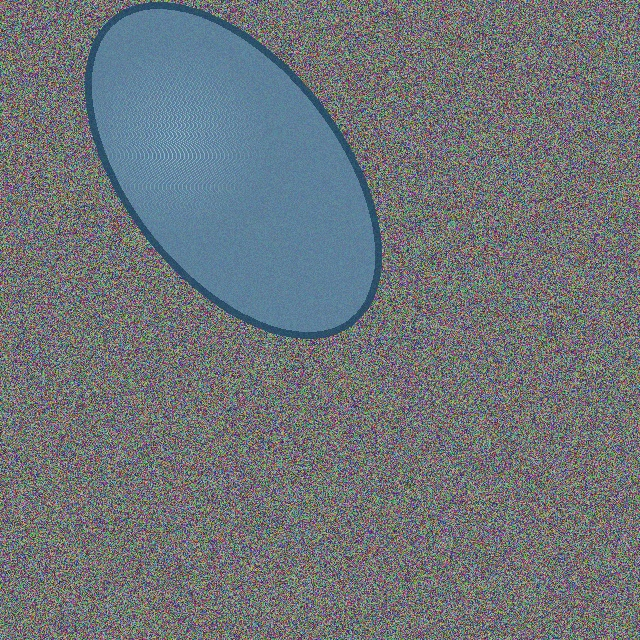lens: (88, 6, 378, 334)
